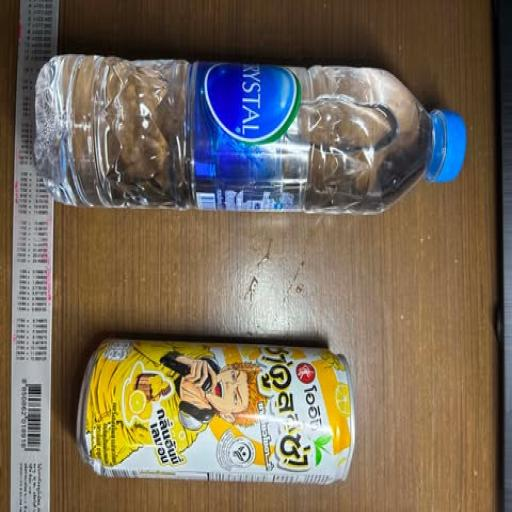bottle: (20, 26, 484, 238)
canned: (55, 310, 380, 498)
